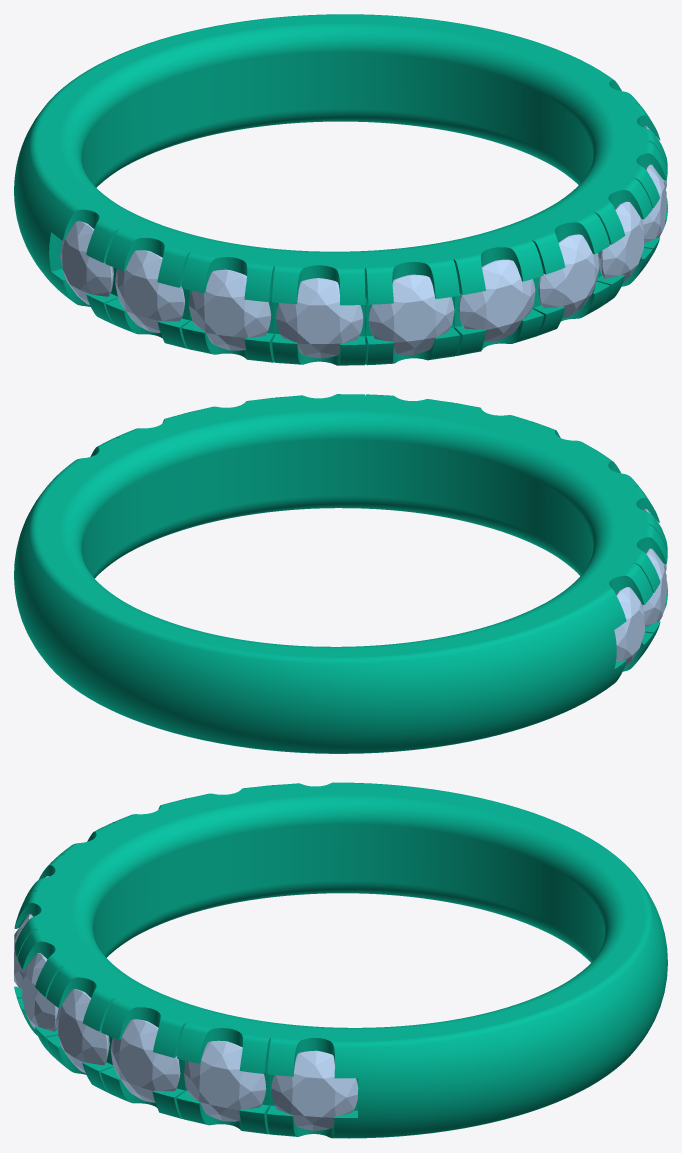
3 views of the same model, one above another, from view 1: azimuth 30°, elevation 25°; view 2: azimuth 150°, elevation 25°; view 3: azimuth 270°, elevation 25° (orthographic).
Visible parts, largest first — view 1: 3.2 MM (L)(base).3dm, Diamond_Round (×9); view 2: 3.2 MM (L)(base).3dm, Diamond_Round (×2); view 3: 3.2 MM (L)(base).3dm, Diamond_Round (×5).
Boxes of the visible parts, bbox=[...] form: 3.2 MM (L)(base).3dm: bbox=[14, 14, 667, 365]; Diamond_Round (×9): bbox=[60, 164, 666, 358]; 3.2 MM (L)(base).3dm: bbox=[14, 394, 667, 753]; Diamond_Round (×2): bbox=[614, 548, 666, 667]; 3.2 MM (L)(base).3dm: bbox=[14, 782, 667, 1138]; Diamond_Round (×5): bbox=[22, 953, 358, 1130].
Size of the model in its own units: 2.81 by 0.4793 by 2.8.
